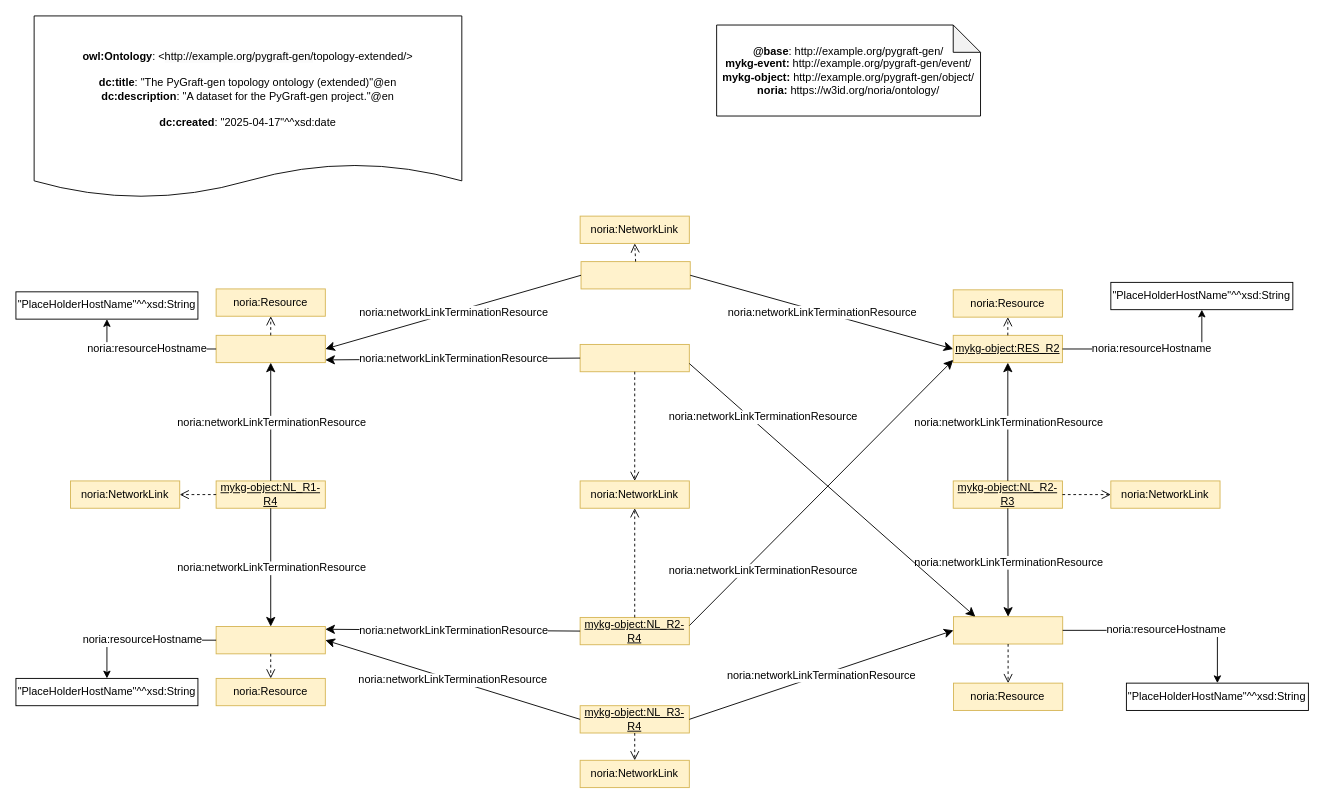
Image size: 1325x804. Some labels were removed from this diagram. Here are the shapes that lost their labels. From the top down, the centre of each, then its label:
(635,275): mykg-object:NL_R1-R2
(270,348): mykg-object:RES_R1
(634,358): mykg-object:NL_R1-R3
(270,640): mykg-object:RES_R4
(1008,630): mykg-object:RES_R3
